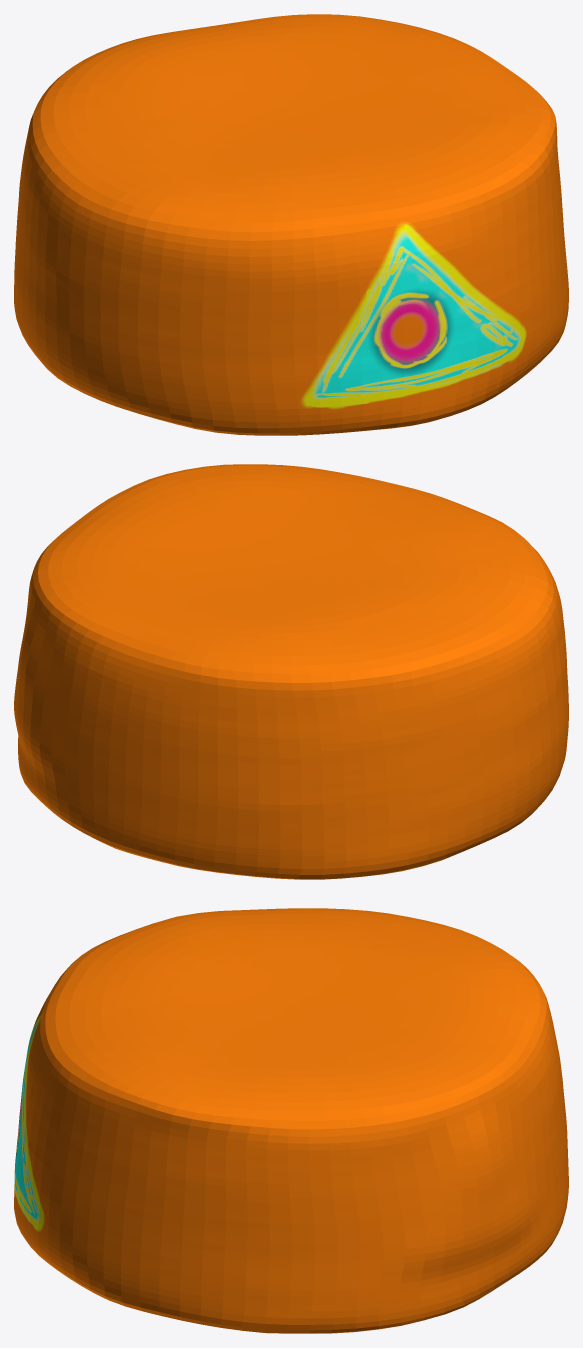
The model's file is jynistoe.gltf.
3 views of the same model, one above another, from view 1: azimuth 30°, elevation 25°; view 2: azimuth 150°, elevation 25°; view 3: azimuth 270°, elevation 25° (orthographic). The views are drawn at different scales.
Parts seen in each view (by area): view 1: Retopo_Cylinder; view 2: Retopo_Cylinder; view 3: Retopo_Cylinder.
Part boxes in pixels (bbox=[...]): Retopo_Cylinder: bbox=[14, 14, 568, 435]; Retopo_Cylinder: bbox=[14, 464, 568, 879]; Retopo_Cylinder: bbox=[14, 908, 568, 1333].
Bounding box in the file's own units: 5.21 × 2.3 × 5.08.
Materials: 1 (1 with a texture image).
